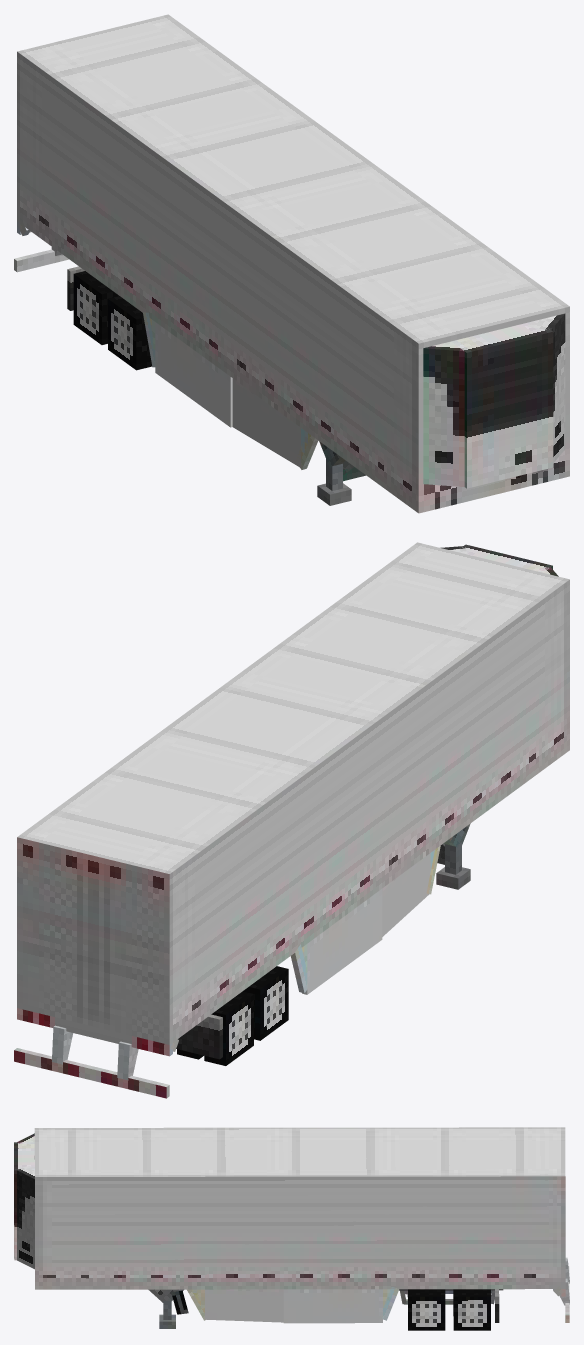
Rendered from reefer.gltf.
3 renders of one model, top to bottom at view 1: azimuth 30°, elevation 25°; view 2: azimuth 150°, elevation 25°; view 3: azimuth 270°, elevation 25°, orthographic. The views are drawn at different scales.
Parts seen in each view (by area): view 1: Object_2; view 2: Object_2; view 3: Object_2.
Boxes of the visible parts, x1,y1,x2,y2 form: Object_2: (14,14,569,513); Object_2: (14,542,569,1098); Object_2: (14,1127,569,1330).
Bounding box in the file's own units: 2.69 × 3.89 × 12.73.
1 material, 1 textured.
